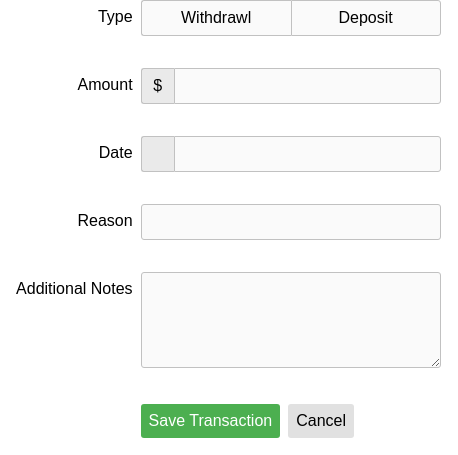
Test: NewTransactionForm › submitting with amount equal to zero results in an error
In the field with test id "amount": (307, 86) [174, 68, 441, 104], type "0"
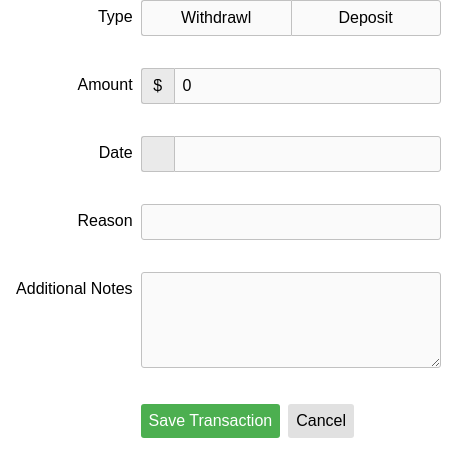
Submit the form with test id "add-transaction-form"
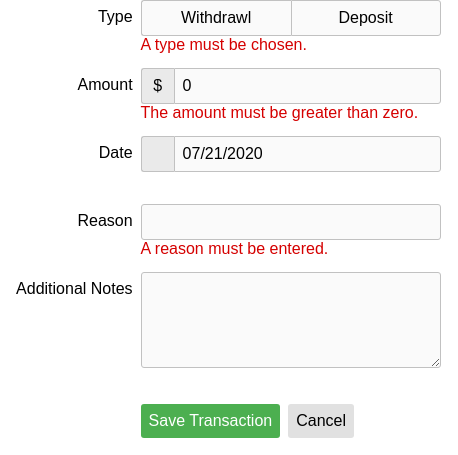
expect the text "The amount must be greater than zero." is shown: met, box [141, 104, 418, 122]
